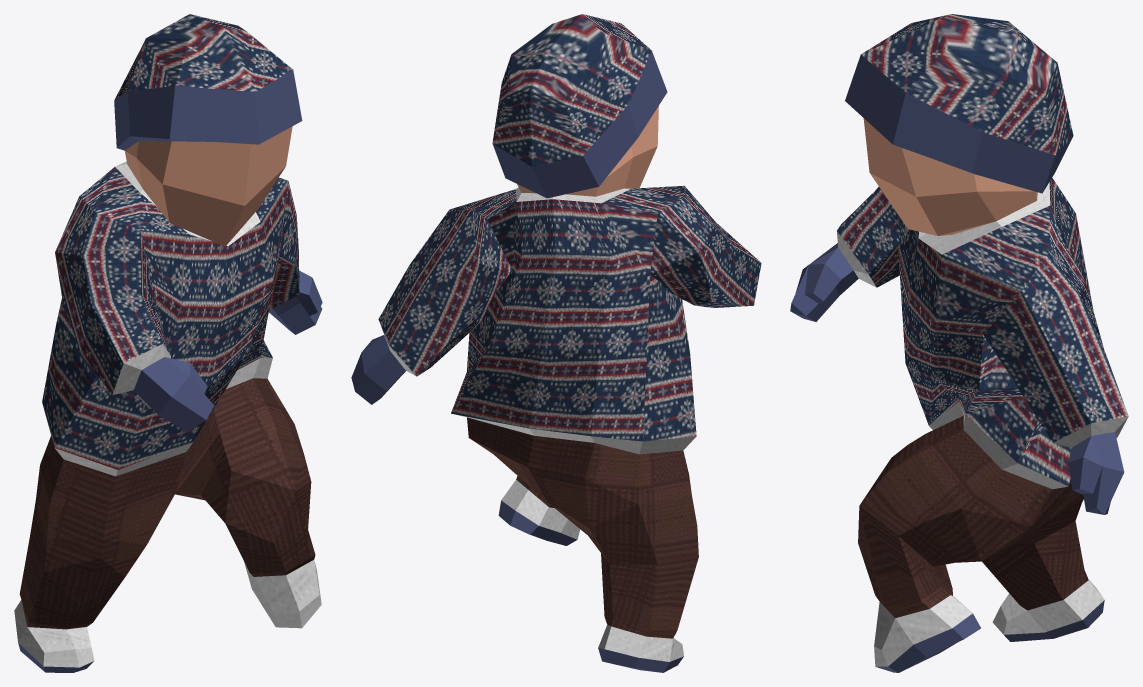
Rendered from AutumnBaby.007.glb.
3 renders of one model, left to right at view 1: azimuth 30°, elevation 25°; view 2: azimuth 150°, elevation 25°; view 3: azimuth 270°, elevation 25°, orthographic. The views are drawn at different scales.
Parts seen in each view (by area): view 1: AutumnBaby.007; view 2: AutumnBaby.007; view 3: AutumnBaby.007.
Part boxes in pixels (left/top/right/bottom): AutumnBaby.007: left=14, top=14, right=322, bottom=672; AutumnBaby.007: left=351, top=14, right=761, bottom=672; AutumnBaby.007: left=790, top=14, right=1128, bottom=672.
Bounding box in the file's own units: 0.3262 × 0.611 × 0.2773.
Materials: 1 (1 with a texture image).
